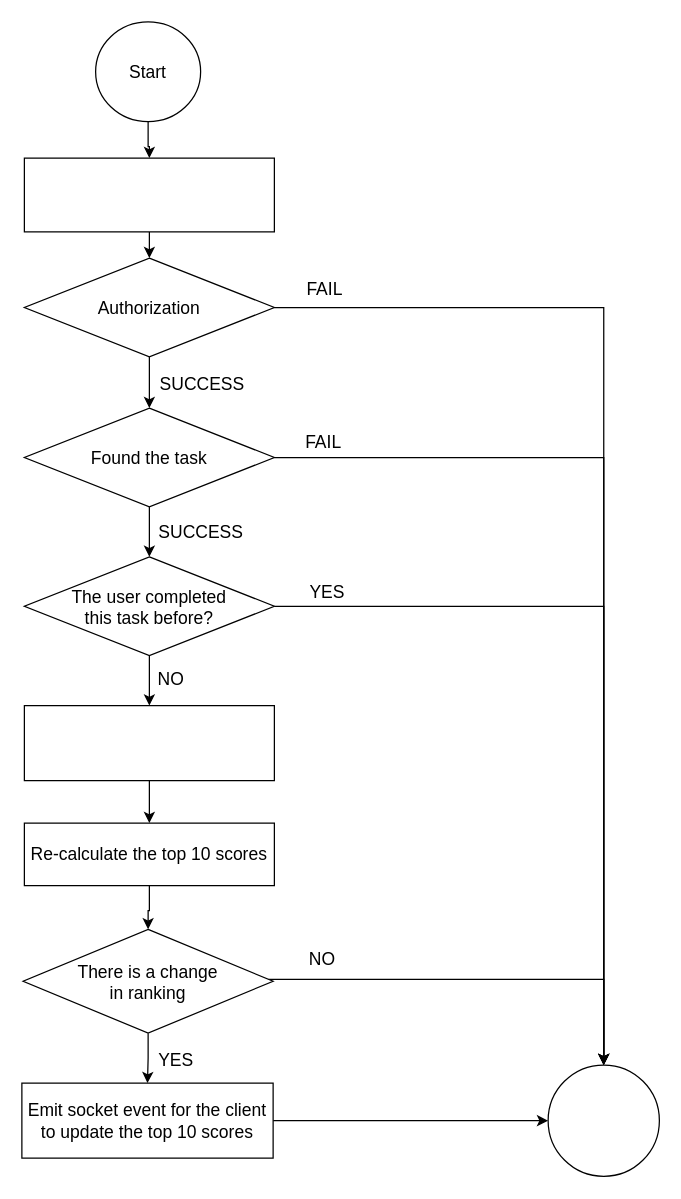
The diagram is 681 pixels wide and 1199 high, and some of its shapes have lost their labels. Here are the shapes that lost their labels. From the top down, the centre of each, then its label:
At point (148, 194): "Request to complete the task".
At point (148, 742): "Update the status of the user having completed the task".
At point (603, 1120): "End".
